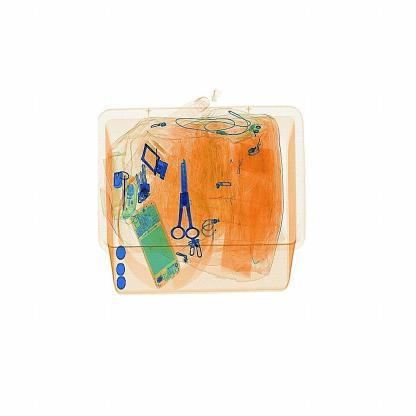gun: (169, 148, 205, 247)
